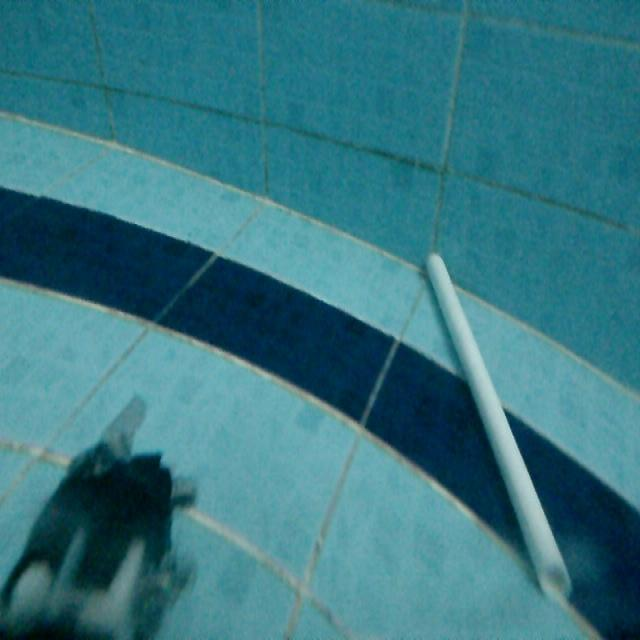Cube: (420, 244, 578, 604)
